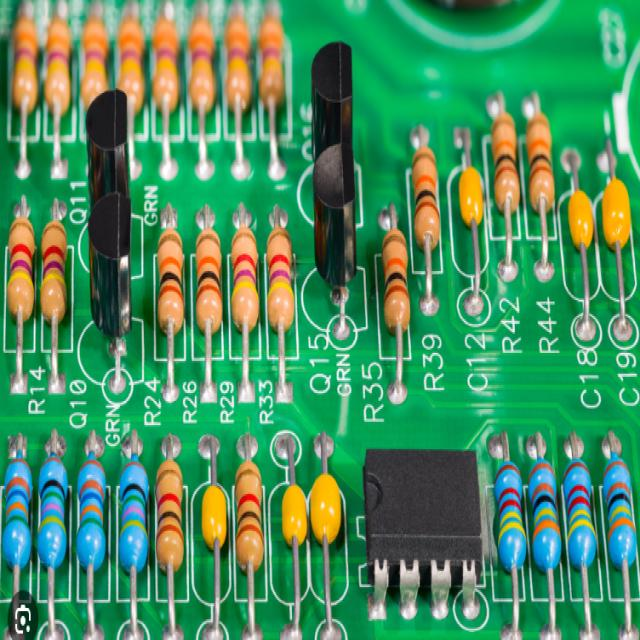IC: (360, 429, 491, 632)
resistor: (555, 422, 598, 618), (595, 424, 638, 612), (35, 200, 70, 391), (486, 430, 524, 600), (150, 426, 184, 615), (520, 89, 556, 258), (260, 213, 296, 378), (528, 432, 560, 617), (116, 421, 146, 614), (7, 190, 36, 388), (238, 429, 268, 619), (158, 215, 190, 383), (406, 120, 438, 284), (195, 219, 226, 384), (36, 437, 66, 607), (381, 198, 410, 372), (491, 88, 521, 252), (75, 424, 102, 604), (228, 220, 256, 382), (5, 435, 30, 600)
transistor: (82, 186, 140, 407), (309, 136, 361, 355), (79, 80, 143, 206), (310, 32, 358, 185)
